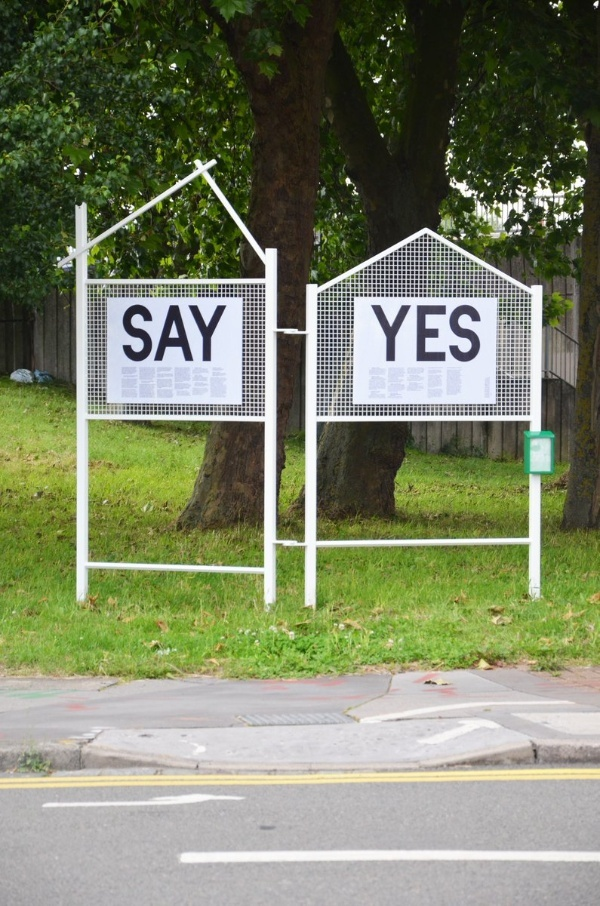text: (129, 303, 144, 363), (145, 303, 160, 363), (161, 303, 176, 363), (177, 303, 192, 363), (193, 303, 208, 363), (209, 303, 224, 363), (385, 304, 400, 364), (401, 304, 416, 364), (417, 304, 432, 364), (433, 304, 448, 364), (449, 304, 464, 364), (465, 304, 480, 364), (372, 304, 384, 364), (123, 303, 128, 363), (225, 303, 229, 363), (481, 304, 483, 364)
